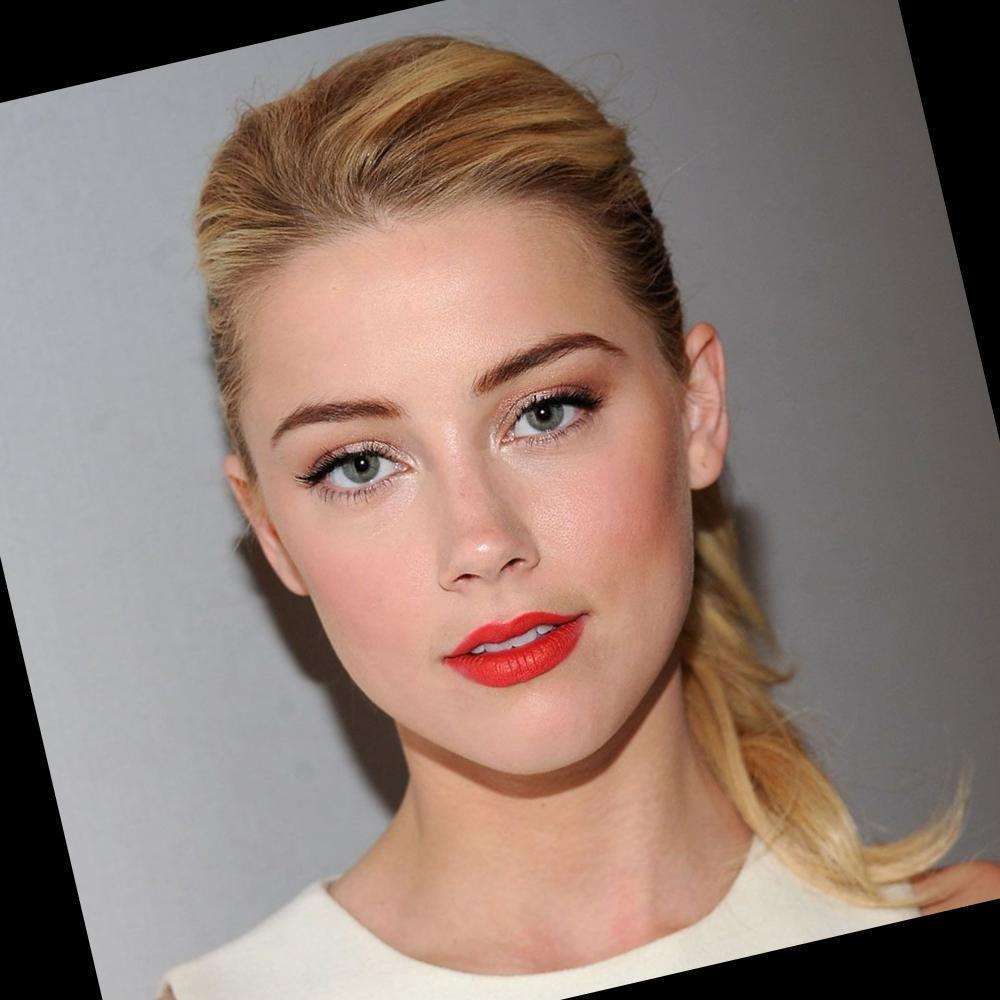Sober: (265, 240, 664, 748)
